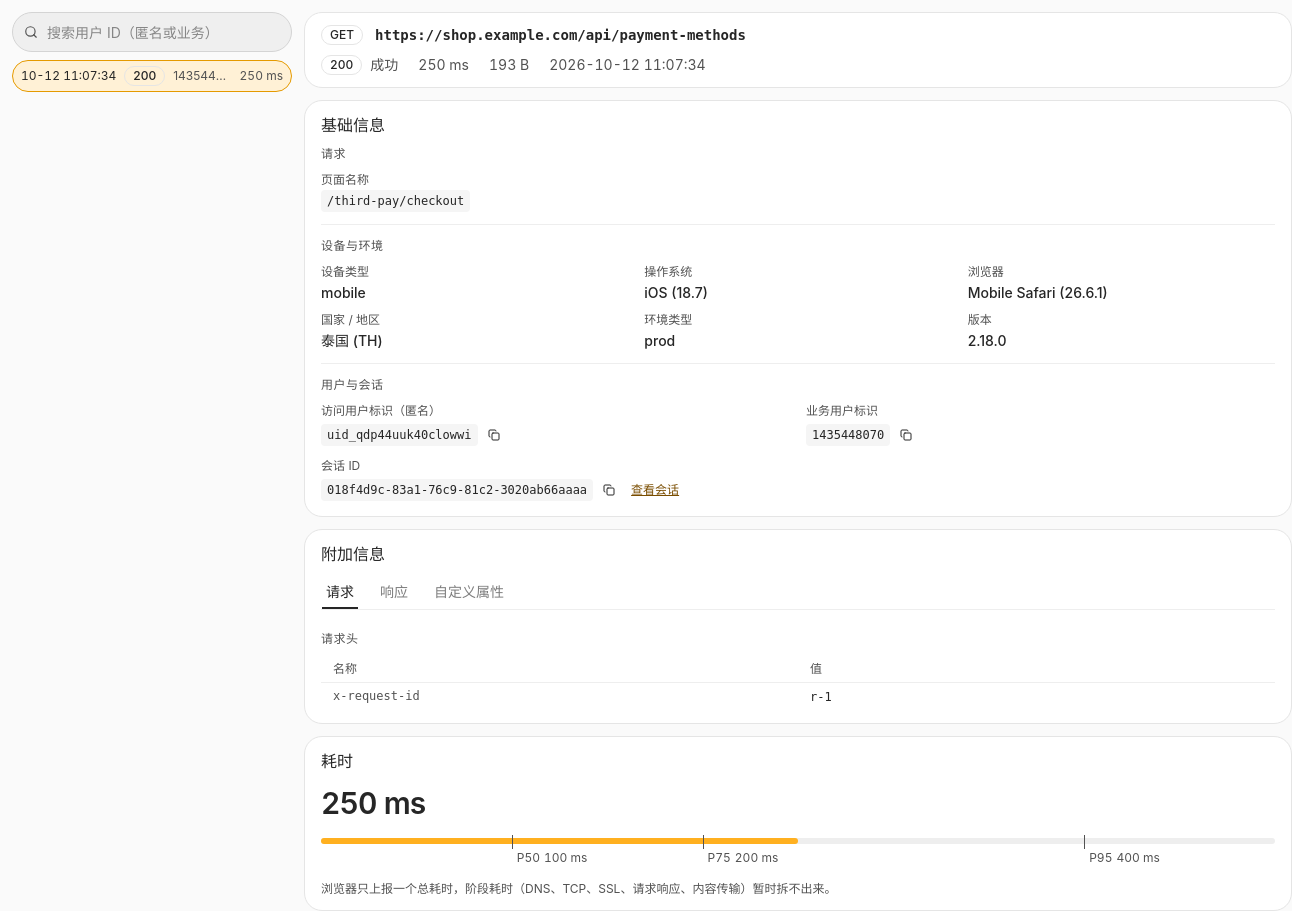
Scenario: ApiSamples › splits what a request carries into request, response and attribute tabs
expect the list named "请求列表" is shown: met, box [12, 60, 292, 92]
expect the column heading "x-request-id" is shown: met, box [321, 683, 798, 711]
Click the tab "响应": (394, 592) [375, 574, 413, 609]
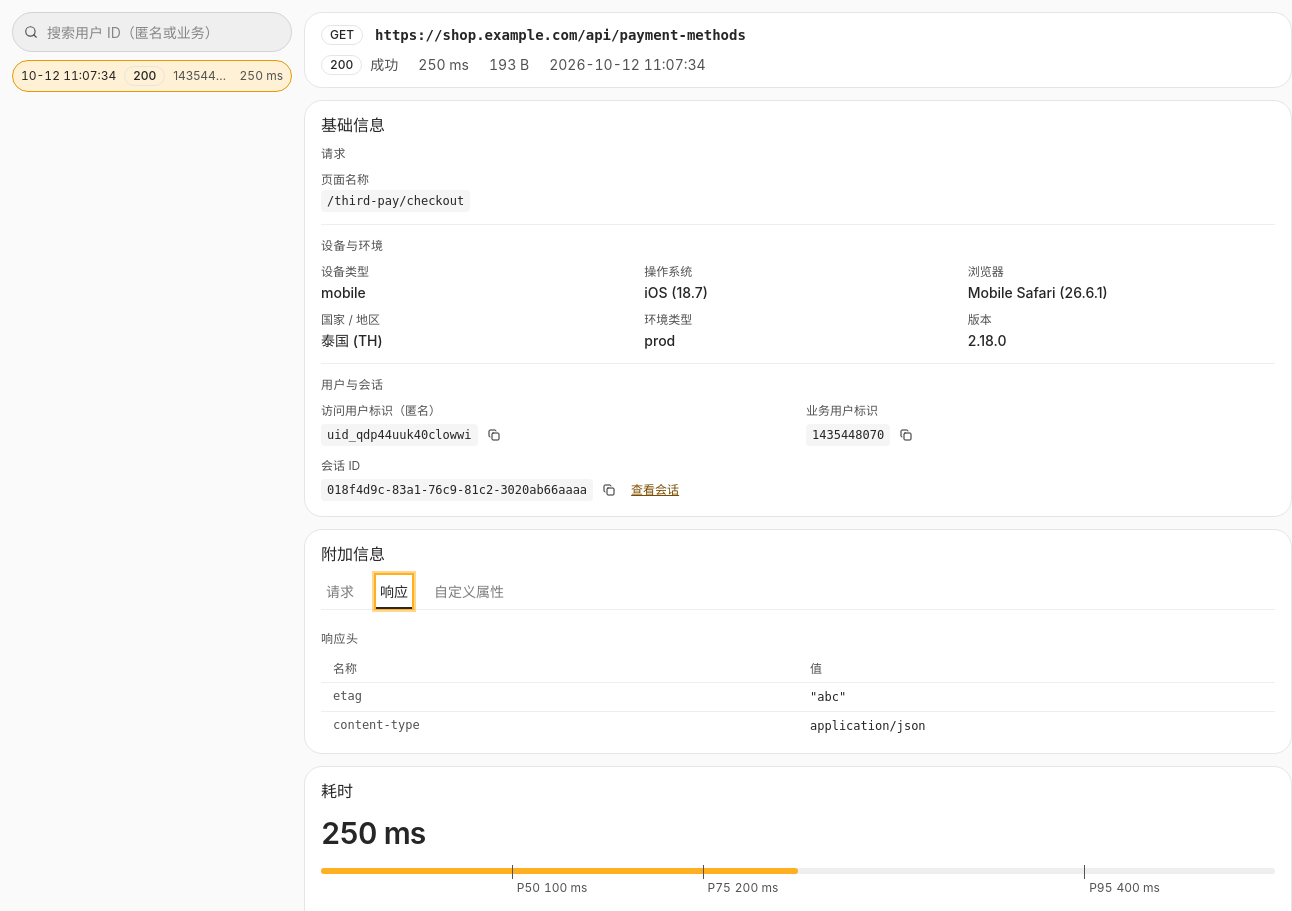
expect the column heading "etag" is shown: met, box [321, 683, 798, 712]
expect the text "\"abc\"" is shown: met, box [810, 690, 846, 704]
Click the tab "自定义属性": (469, 592) [429, 574, 509, 609]
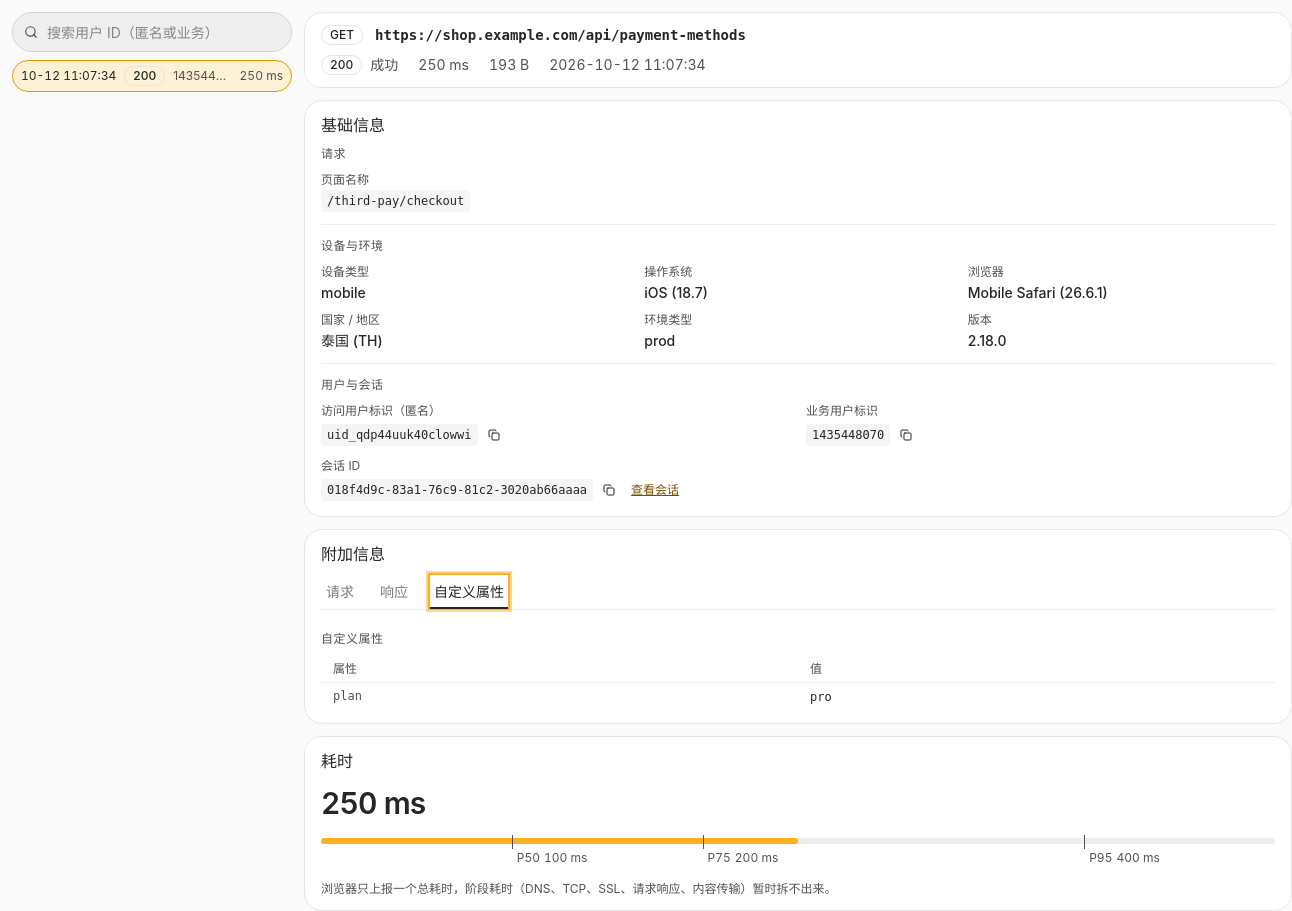
expect the column heading "plan" is shown: met, box [321, 683, 798, 711]
expect the text "pro" is shown: met, box [810, 690, 832, 704]
